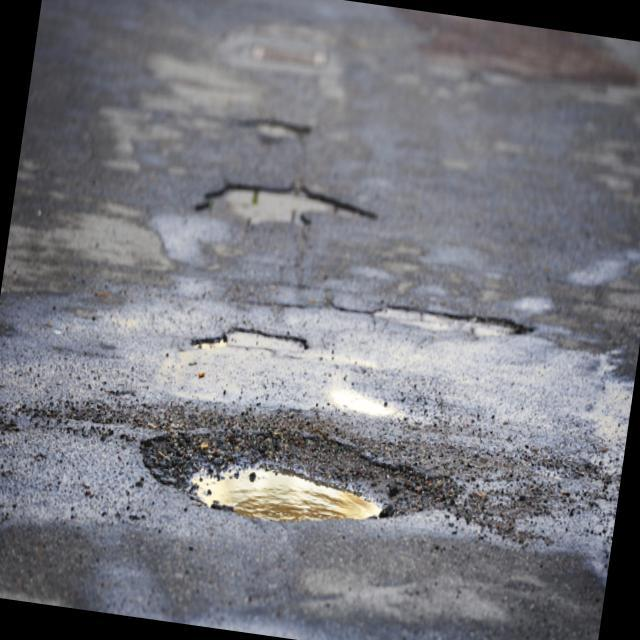Pothole: (122, 404, 432, 542), (183, 159, 400, 255), (328, 280, 554, 358), (168, 304, 316, 364), (223, 105, 333, 154)
